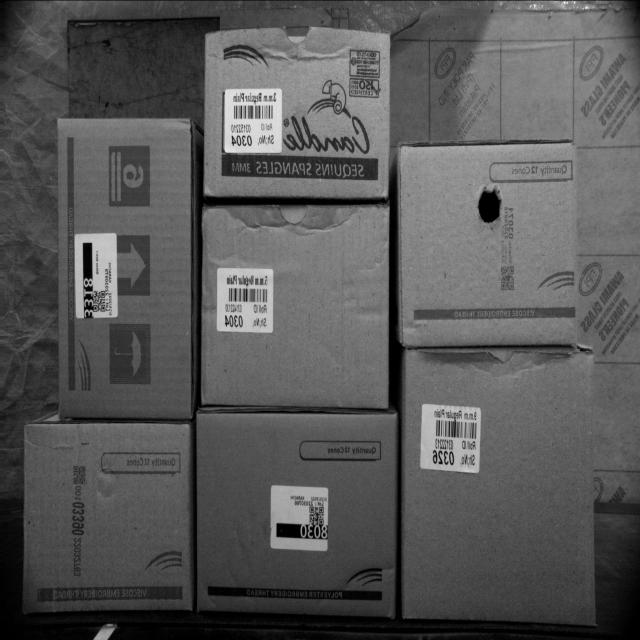cardboxes: (400, 346, 596, 622), (193, 410, 397, 621), (54, 119, 194, 418), (200, 202, 392, 406), (397, 141, 572, 343), (19, 420, 192, 613), (201, 29, 390, 198)
